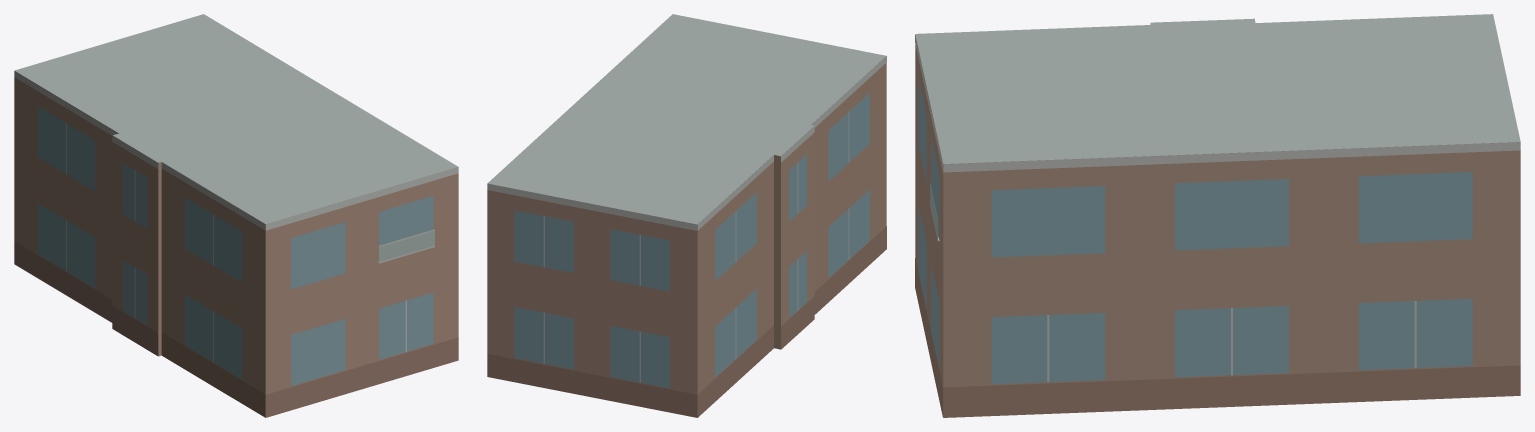
Rendered from survey-upis-32608575.glb.
The picture shows the model from 3 angles, left to right: view 1: azimuth 30°, elevation 25°; view 2: azimuth 150°, elevation 25°; view 3: azimuth 270°, elevation 25°; orthographic projection. The views are drawn at different scales.
Visible parts, largest first — view 1: survey-upis-32608575.tmp; view 2: survey-upis-32608575.tmp; view 3: survey-upis-32608575.tmp.
Boxes of the visible parts, x1,y1,x2,y2 form: survey-upis-32608575.tmp: (14,14,458,417); survey-upis-32608575.tmp: (487,14,886,417); survey-upis-32608575.tmp: (915,14,1520,417).
Size of the model in its own units: 9.27 by 7.3 by 15.8.
